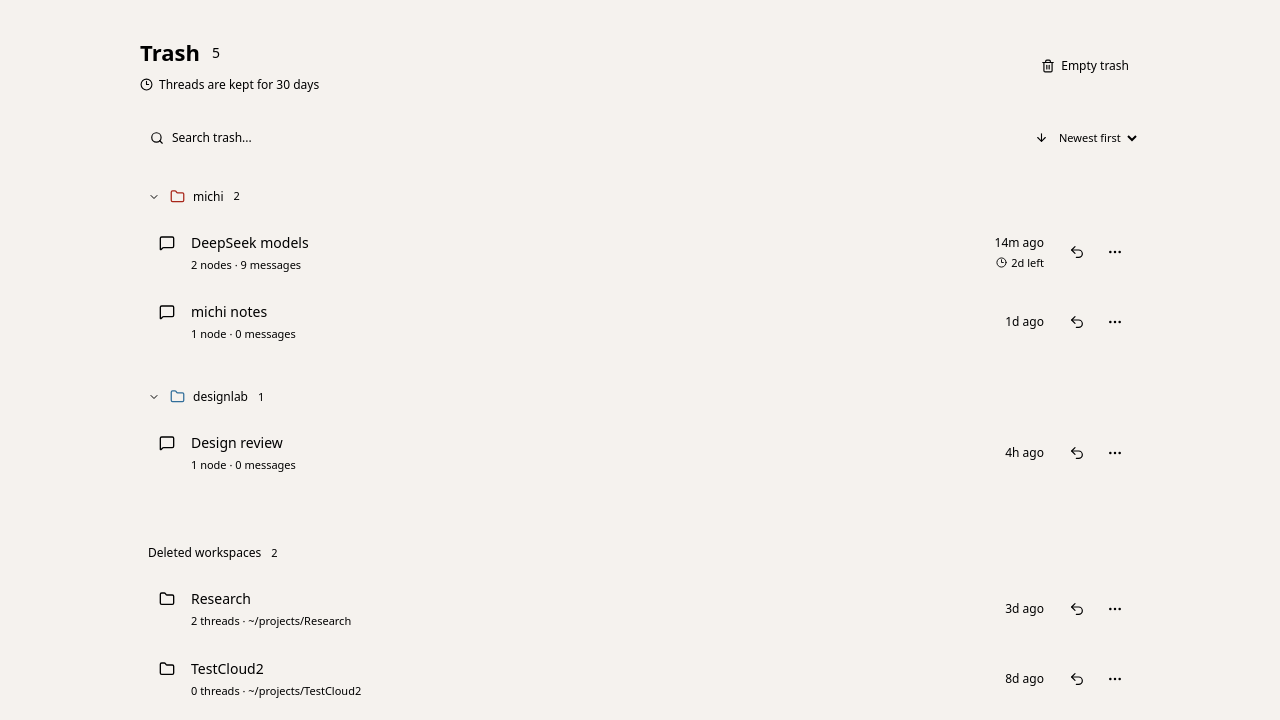
Trash page › sorts oldest-first and shows a separate no-results state
Select "Oldest first" in the dropdown named "Sort deleted items" at (1084, 138), box [1029,121,1140,155]
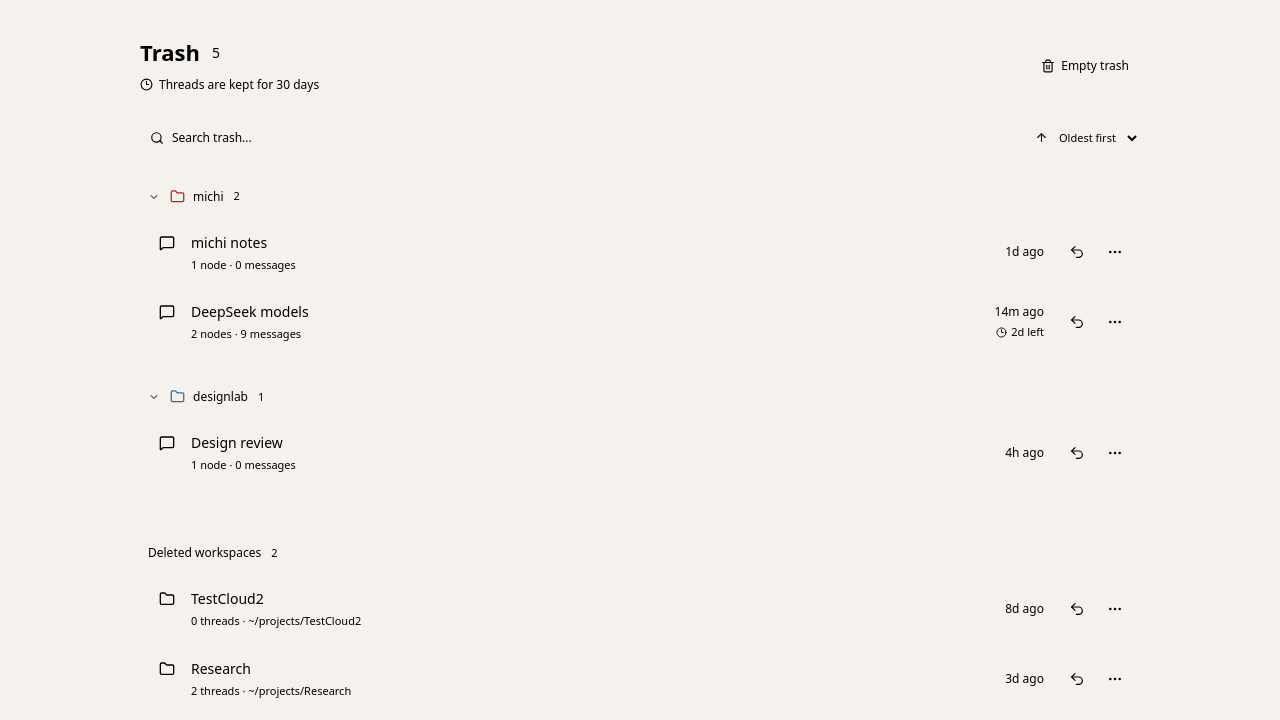
Type "<no match>" into the search field at (296, 138), box [172,129,420,146]
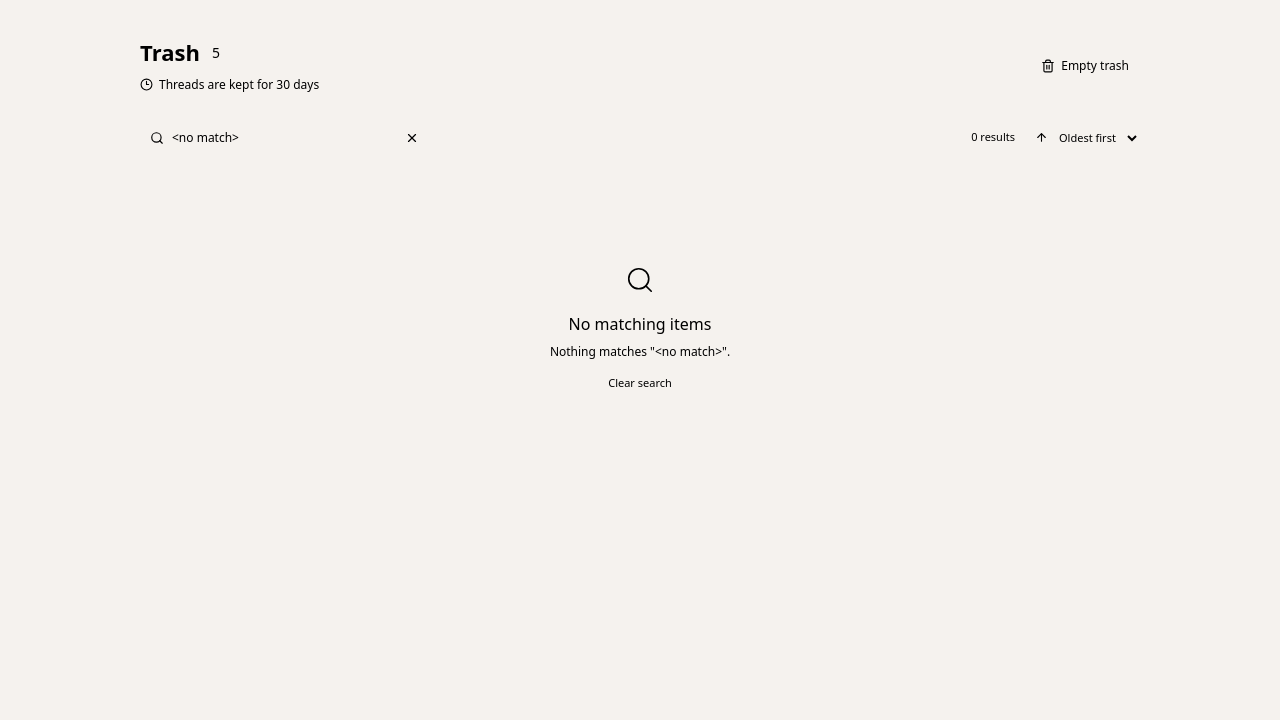
Now the heading "No matching items" is shown, box [569,312,712,336]
Now the text "Nothing matches \"<no match>\"." is shown, box [550,342,730,360]
